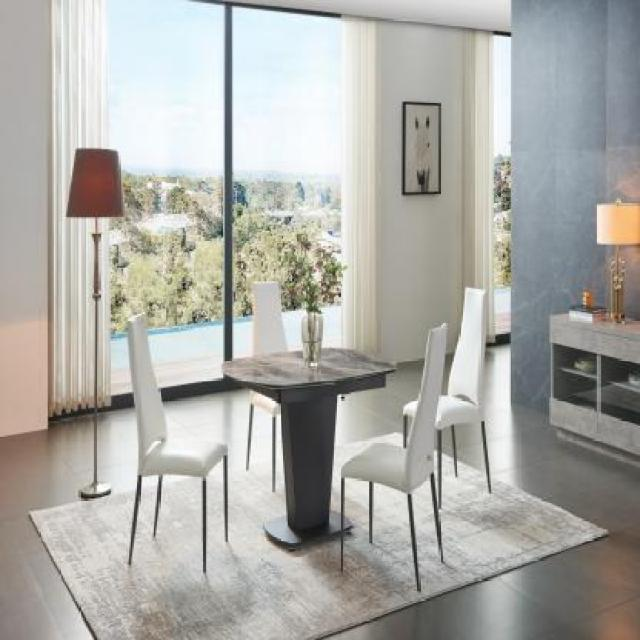floor: (0, 333, 640, 640), (331, 357, 425, 511), (441, 355, 454, 395)
